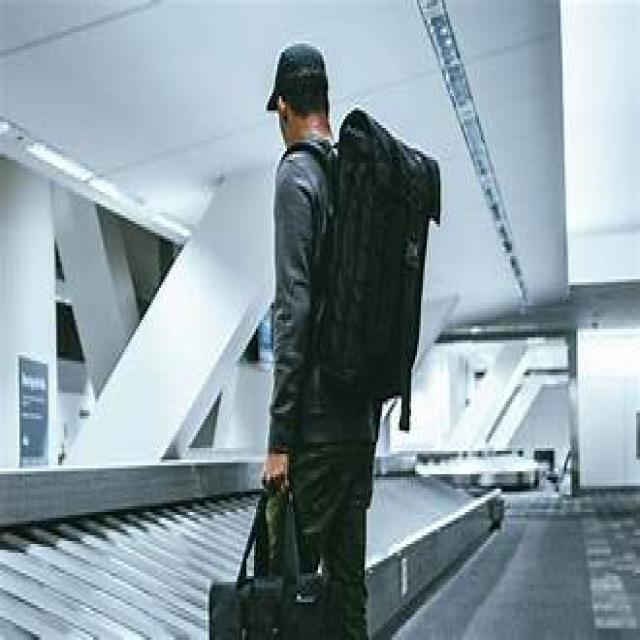backpack: (277, 109, 442, 432)
